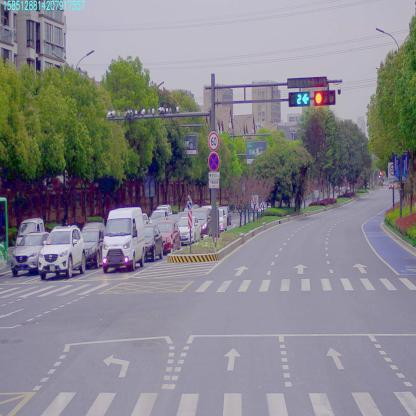traffic-light: (313, 91, 337, 107), (289, 94, 307, 105)
